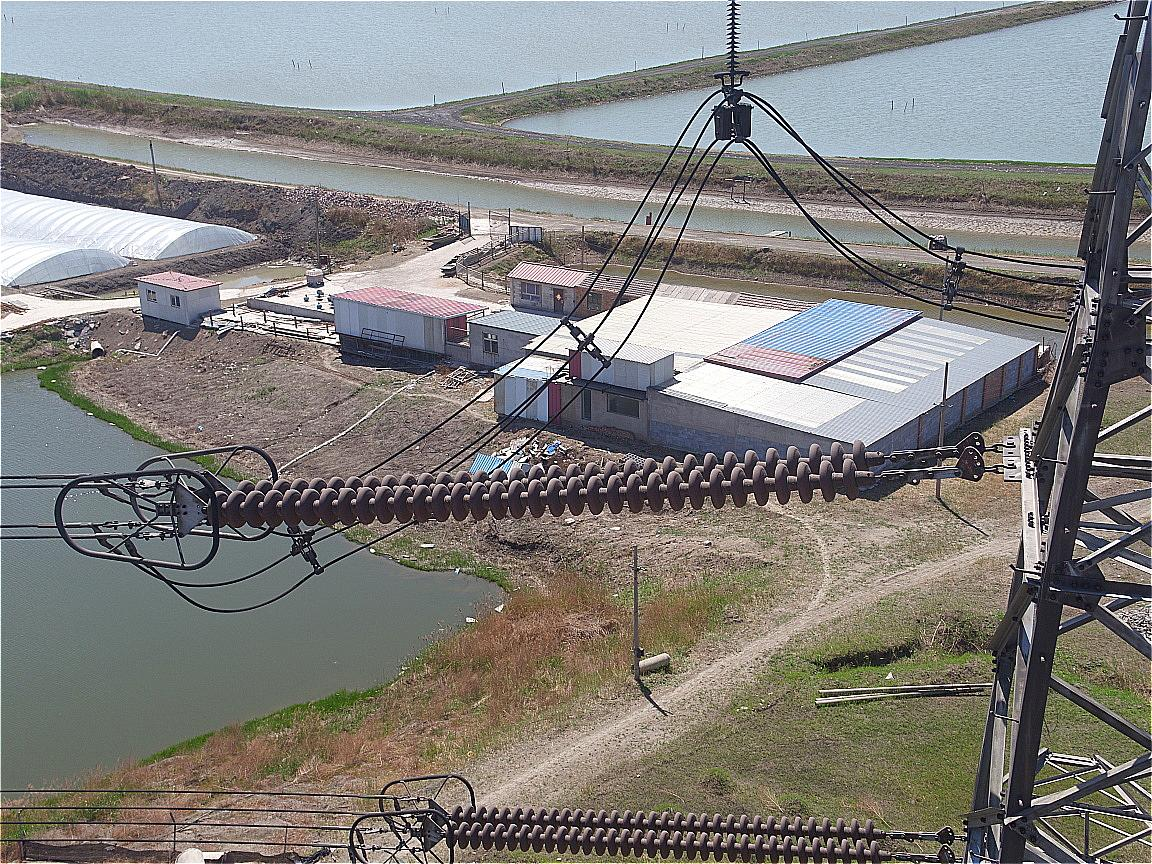insultor1: (207, 438, 868, 528), (445, 805, 884, 863)
